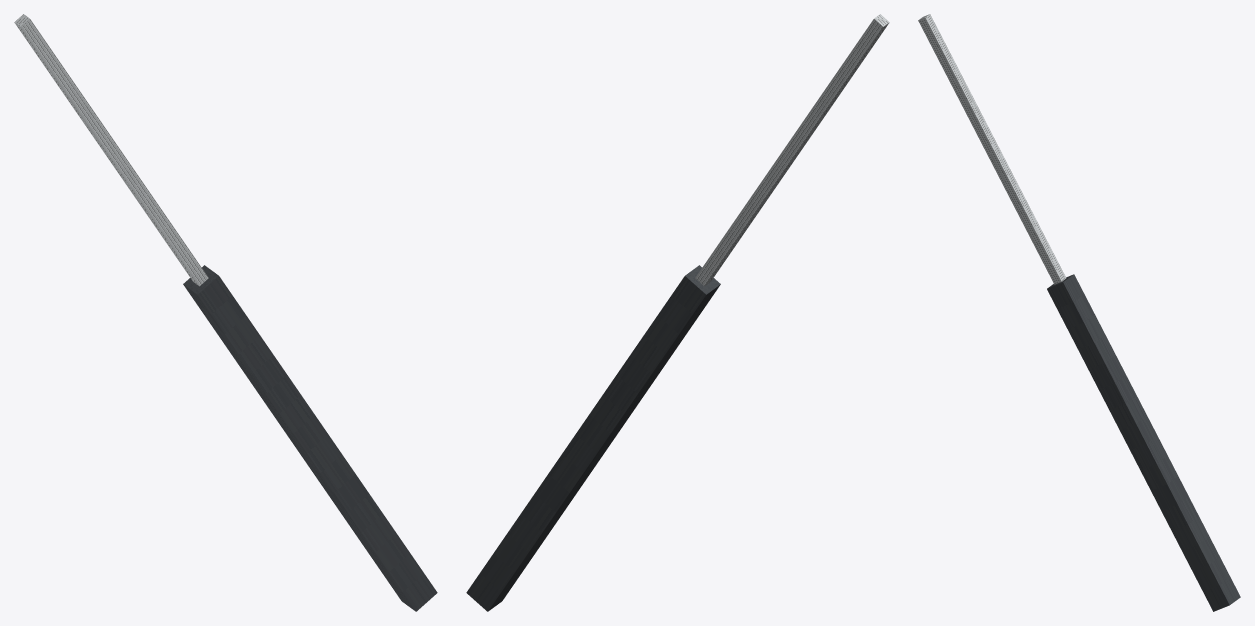
File: single_leaf_3_strut_a.obj
The picture shows the model from 3 angles, left to right: view 1: azimuth 30°, elevation 25°; view 2: azimuth 150°, elevation 25°; view 3: azimuth 330°, elevation 25°; orthographic projection. The views are drawn at different scales.
Visible parts, largest first — view 1: single_leaf_3_strut_a; view 2: single_leaf_3_strut_a; view 3: single_leaf_3_strut_a.
Boxes of the visible parts, box(x1,y1,x2,y2) form: single_leaf_3_strut_a: box(14, 14, 437, 611); single_leaf_3_strut_a: box(466, 14, 889, 611); single_leaf_3_strut_a: box(918, 14, 1240, 611).
Bounding box in the file's own units: 0.8181 × 1.29 × 0.05.
